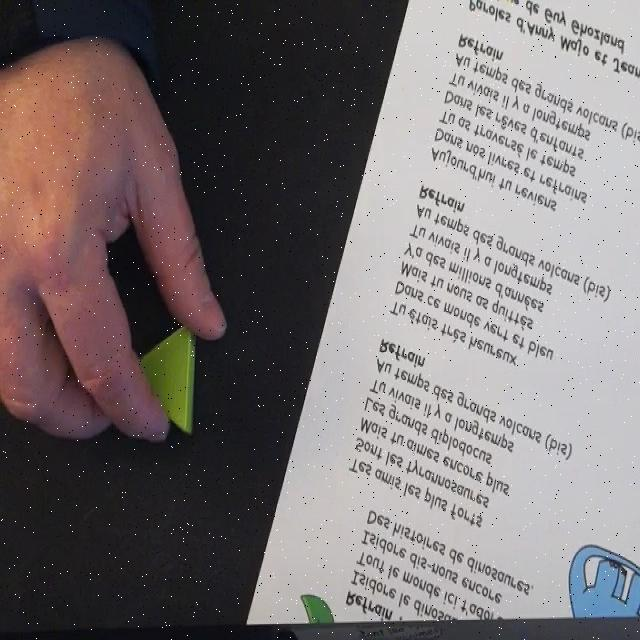triangle: (120, 312, 197, 437)
